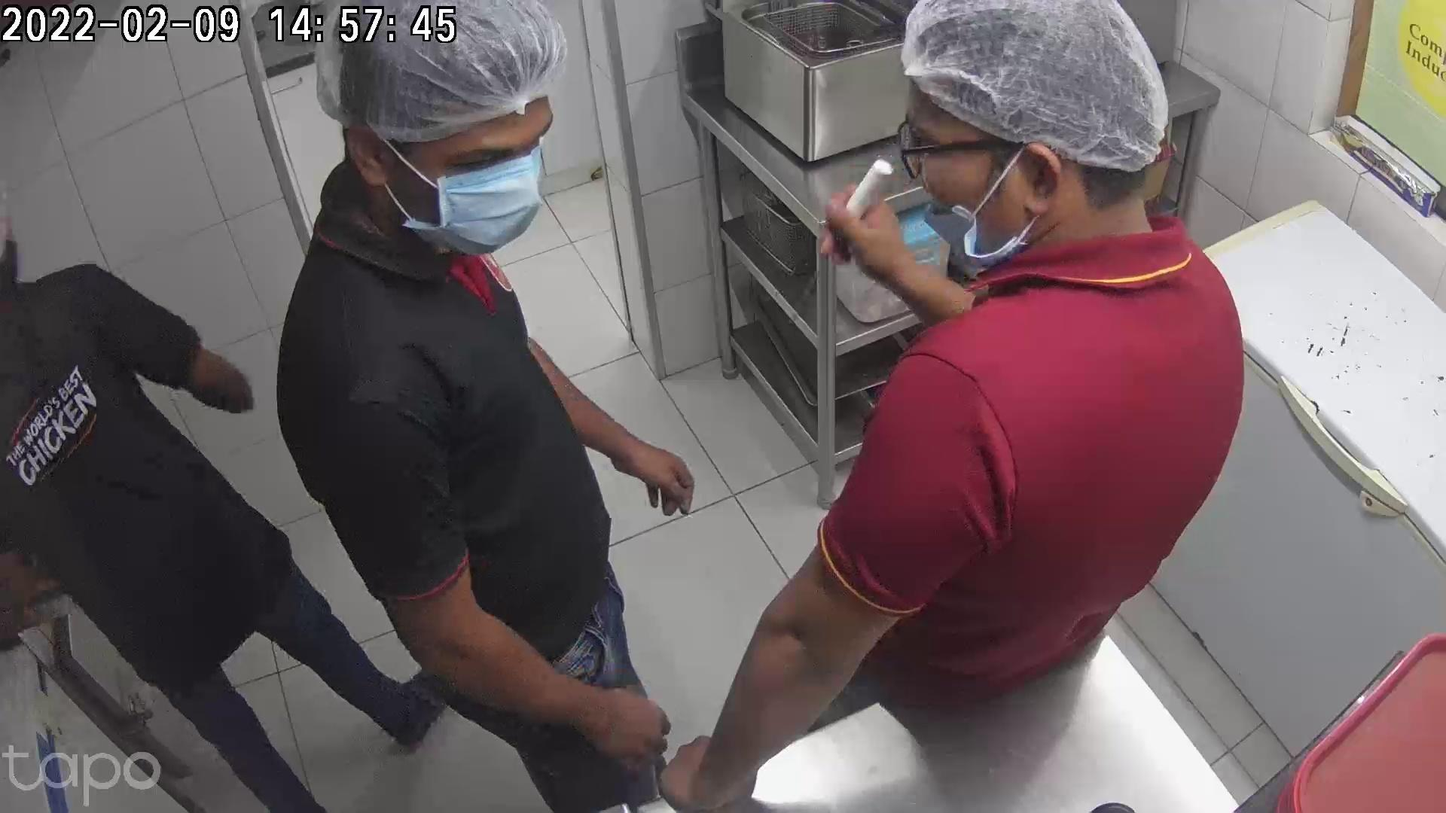no_gloves: (557, 670, 669, 769), (603, 415, 692, 519)
